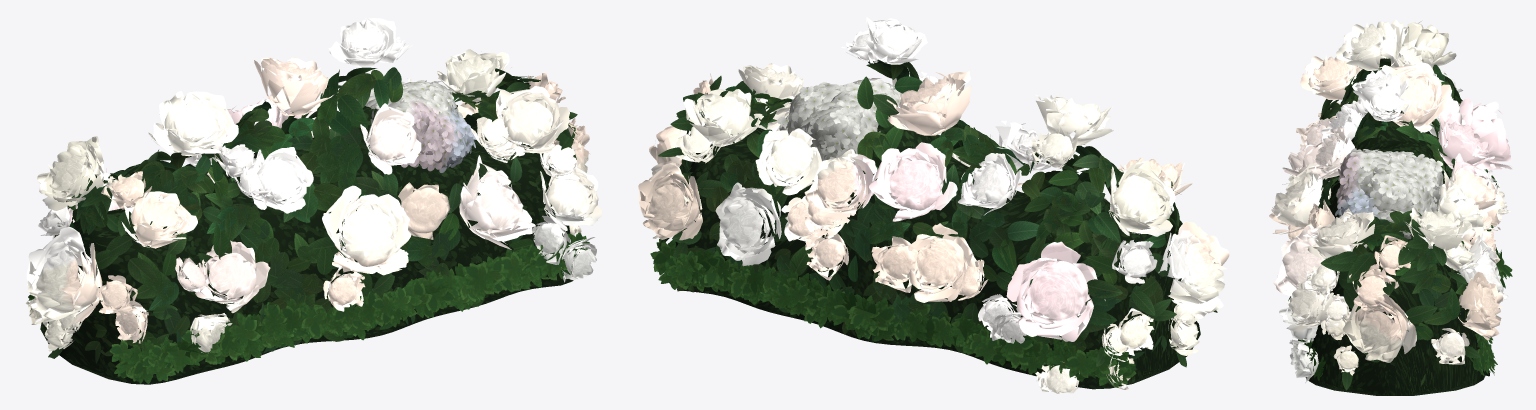
Rendered from FlowerBank_1m_sample_A_1002.glb.
The picture shows the model from 3 angles, left to right: view 1: azimuth 30°, elevation 25°; view 2: azimuth 150°, elevation 25°; view 3: azimuth 270°, elevation 25°; orthographic projection. The views are drawn at different scales.
Parts seen in each view (by area): view 1: FlowerBank_1m; view 2: FlowerBank_1m; view 3: FlowerBank_1m.
Part boxes in pixels (x1=…): FlowerBank_1m: x1=26, y1=18, x2=602, y2=384; FlowerBank_1m: x1=638, y1=17, x2=1229, y2=393; FlowerBank_1m: x1=1269, y1=19, x2=1512, y2=395.
Bounding box in the file's own units: 1.28 × 0.5736 × 0.5706.
7 materials, 6 textured.
